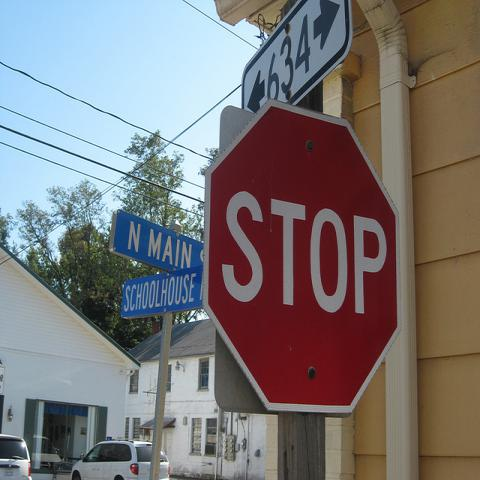car: (69, 442, 172, 474), (0, 434, 34, 480)
